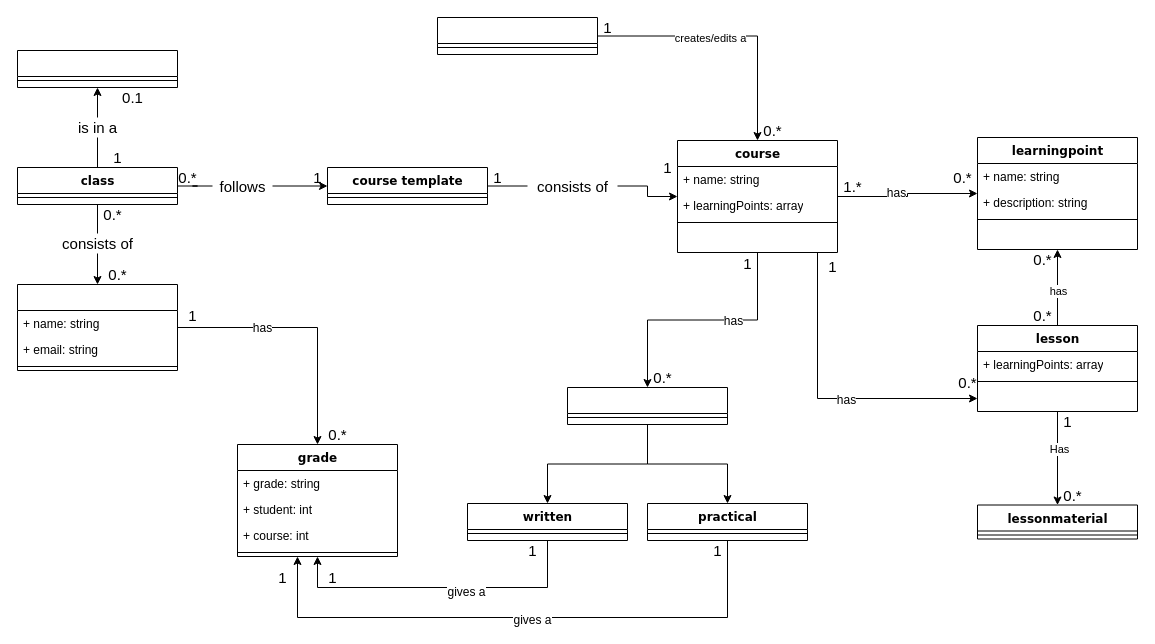
Some shapes in this 1155 by 644 pixel diagram are drawn without their labels. The shapes that lost their labels are listed below. From the top down, each one's box as (x1, y1, x2, y2) in pixels, then its label:
(436, 16, 598, 54): schooladmin
(16, 50, 178, 88): schoolyear
(16, 284, 178, 370): student
(566, 386, 728, 424): exam
